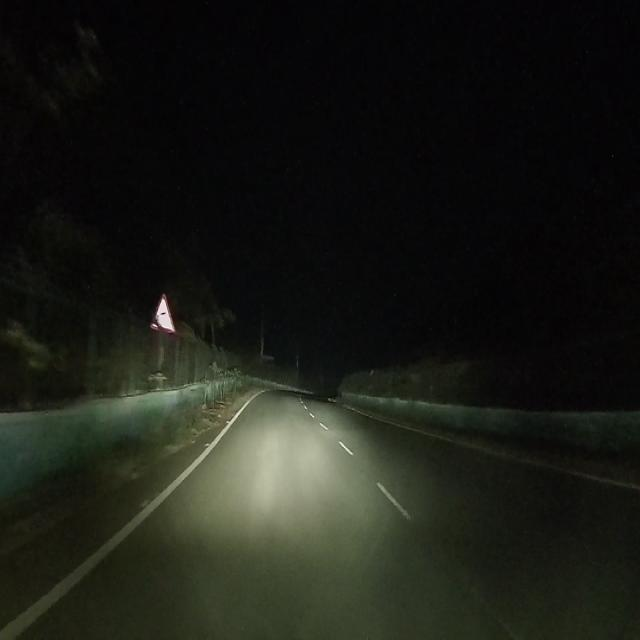right-hand-curve: (150, 286, 176, 340)
